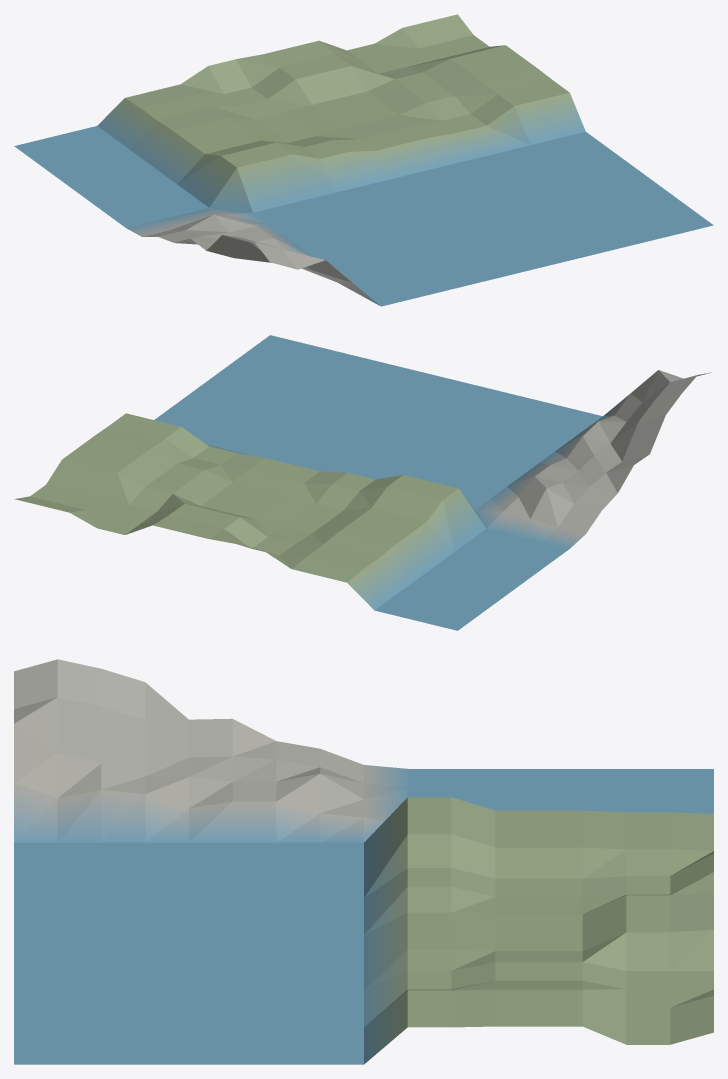
3 renders of one model, top to bottom at view 1: azimuth 30°, elevation 25°; view 2: azimuth 150°, elevation 25°; view 3: azimuth 270°, elevation 25°, orthographic. The views are drawn at different scales.
Bounding box in the file's own units: 32 × 5.53 × 32.
